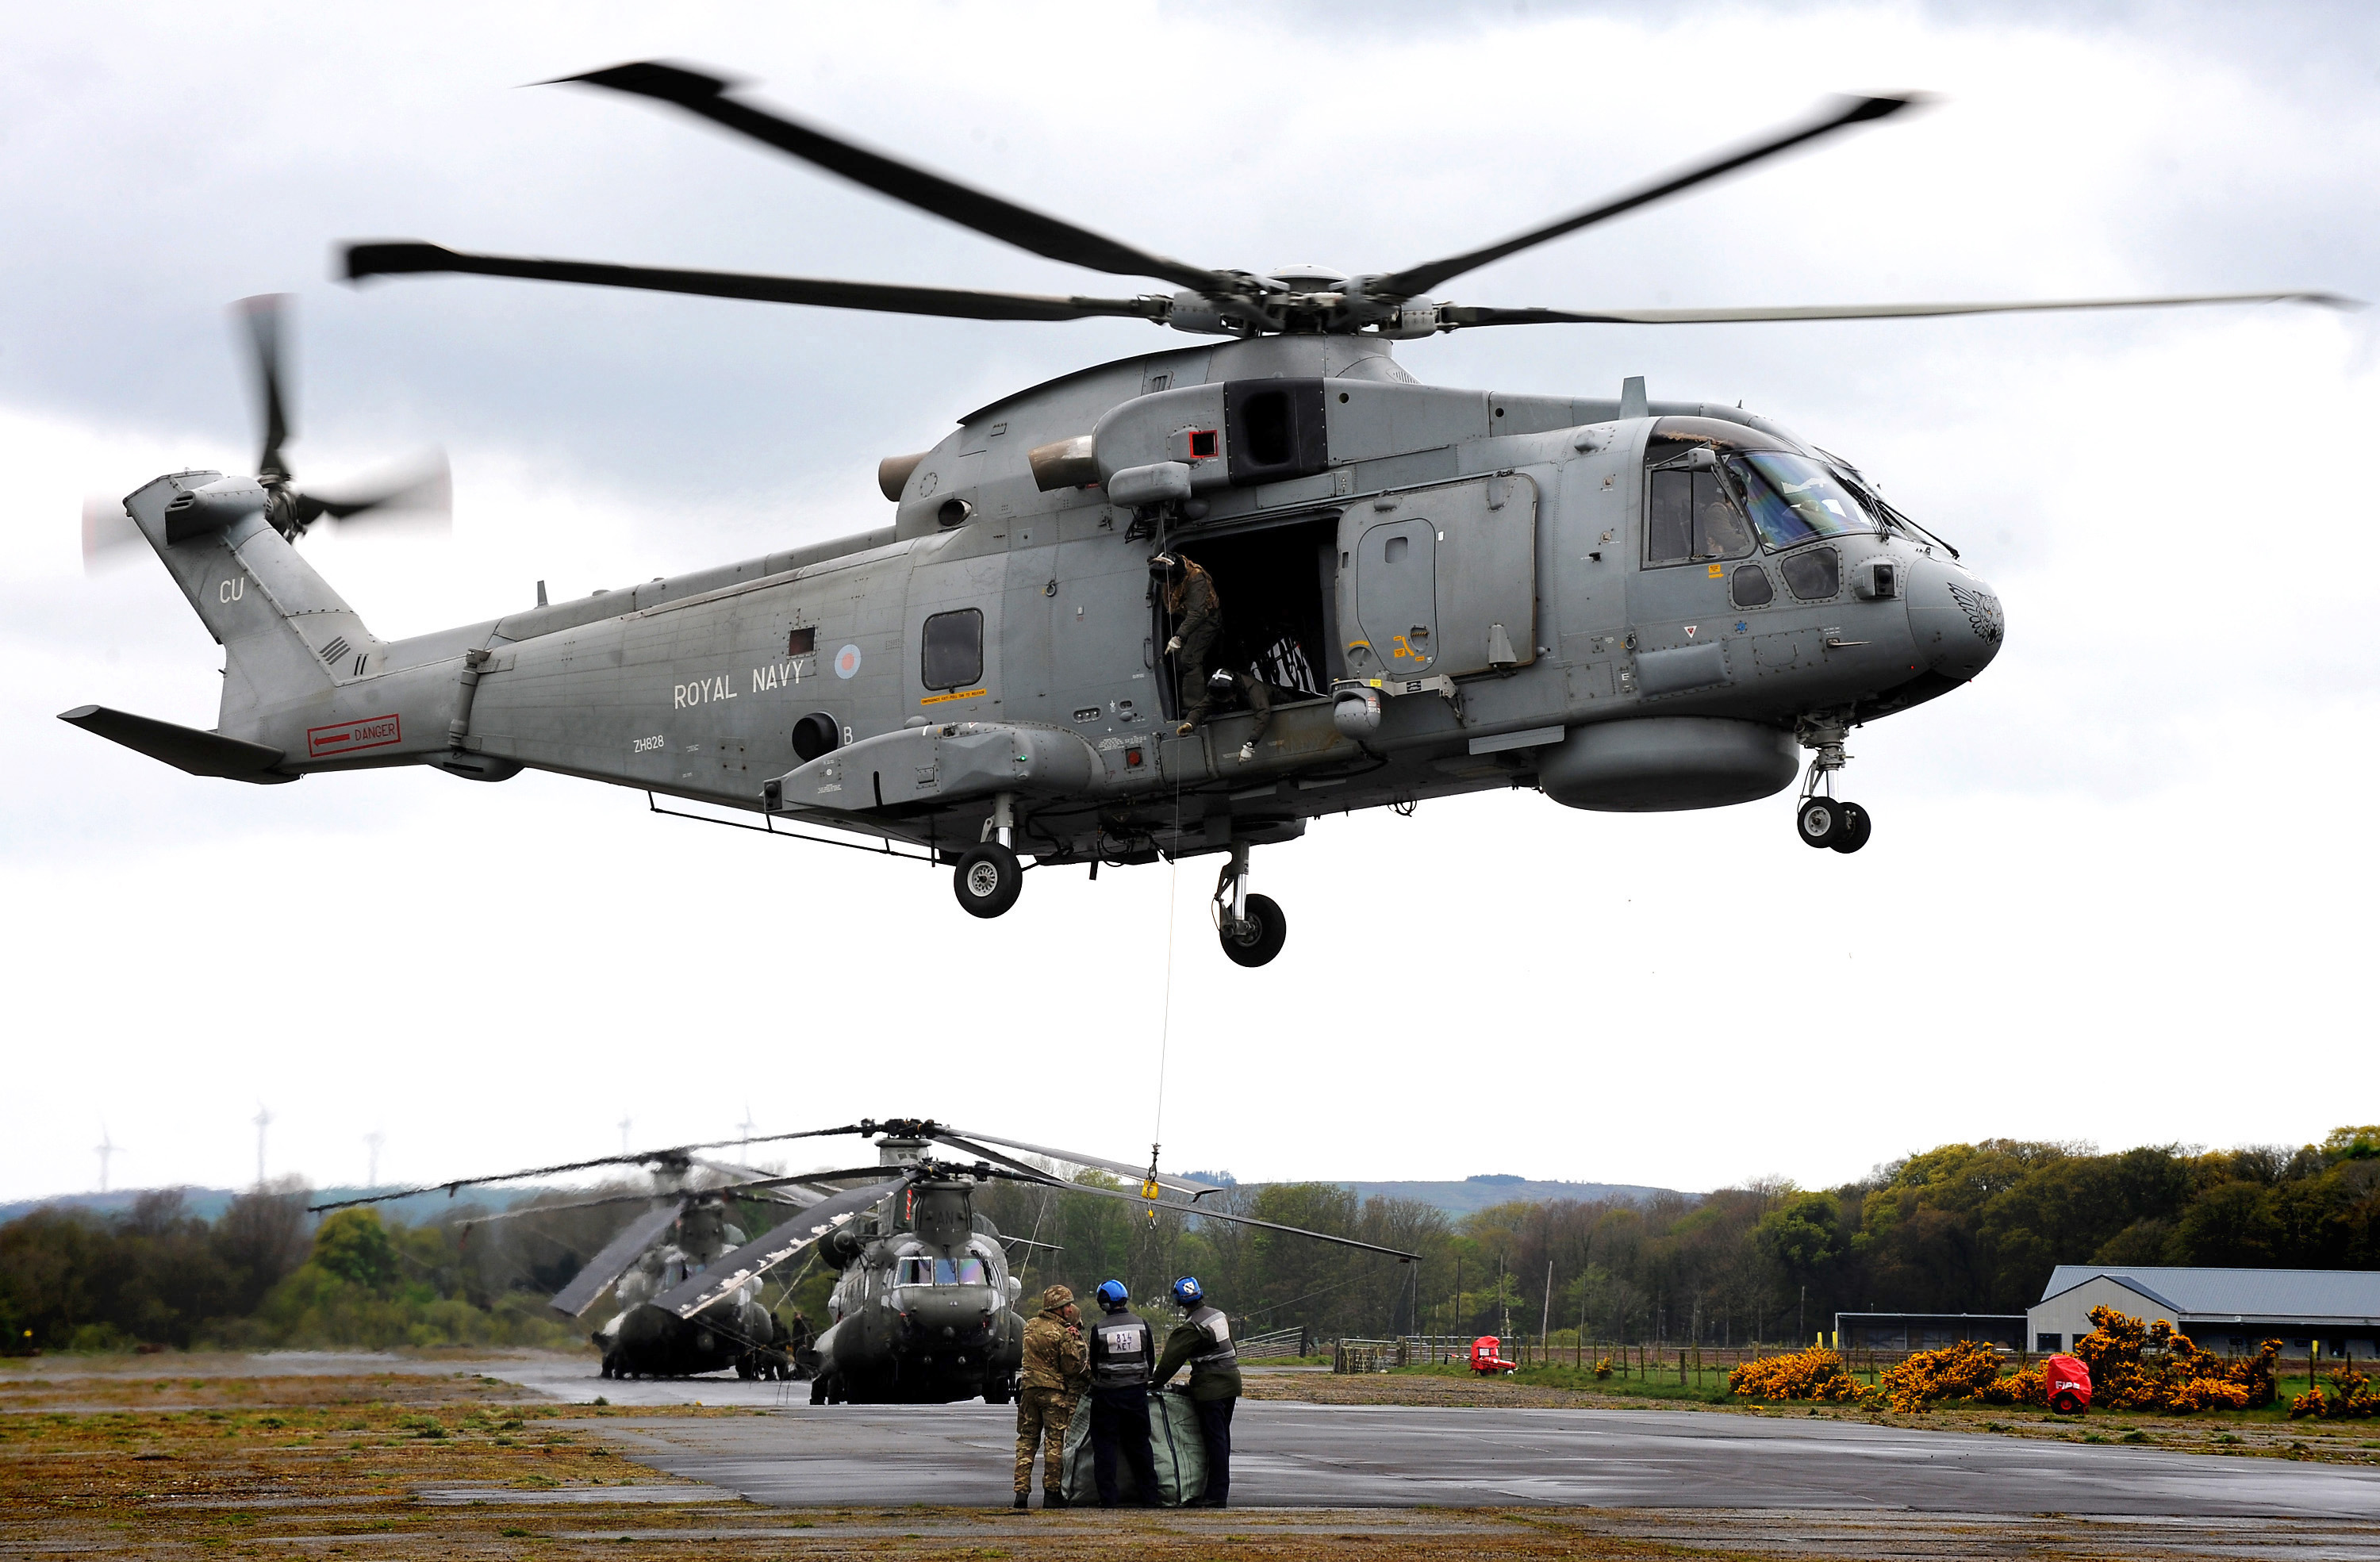Merlin: (26, 78, 2094, 981)
